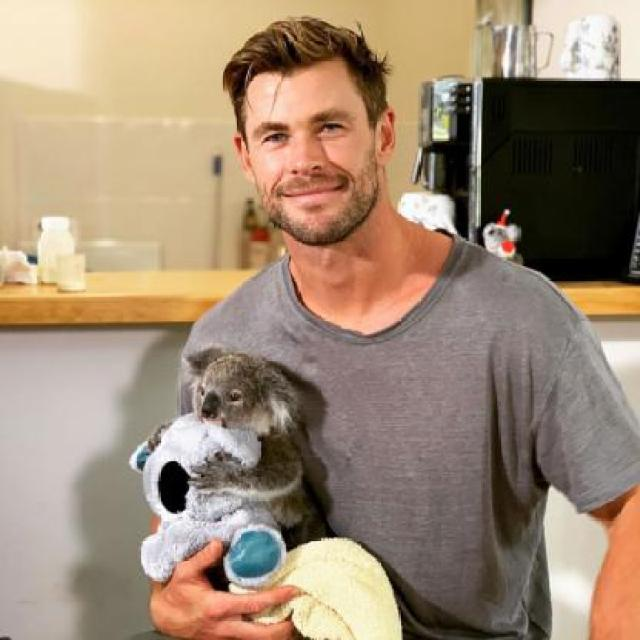Koala: (134, 348, 308, 576)
